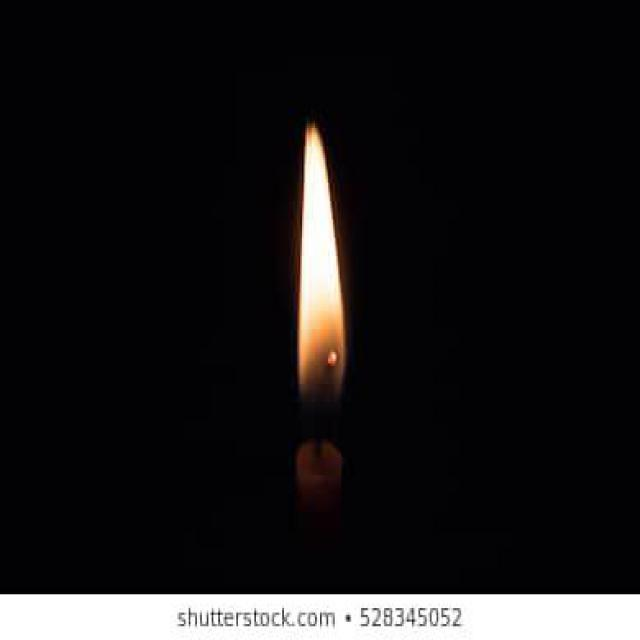Fire: (296, 124, 346, 415)
